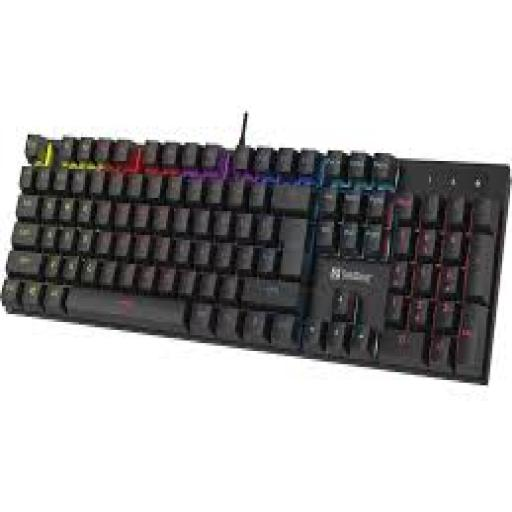keyboard: (0, 119, 508, 380)
